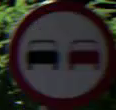No overtake: (11, 8, 109, 92)
